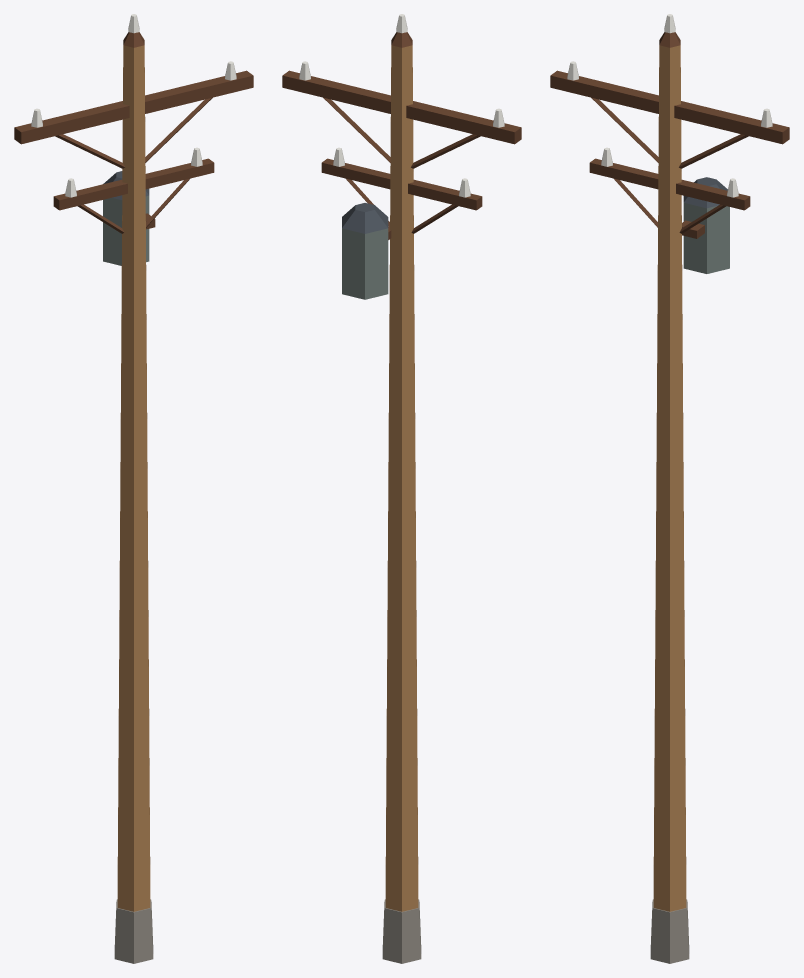
File: utility_pole.glb
The picture shows the model from 3 angles, left to right: view 1: azimuth 30°, elevation 25°; view 2: azimuth 150°, elevation 25°; view 3: azimuth 330°, elevation 25°; orthographic projection.
Visible parts, largest first — view 1: Body; view 2: Body; view 3: Body.
Boxes of the visible parts, x1,y1,x2,y2 form: Body: (14, 14, 253, 963); Body: (282, 14, 521, 963); Body: (550, 14, 789, 963).
Size of the model in its own units: 2.4 by 9.27 by 0.7811.
